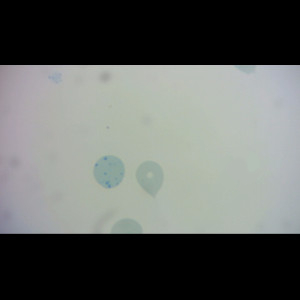erythrocyte: (134, 159, 166, 200)
punctate reticulocyte: (92, 154, 126, 190)
